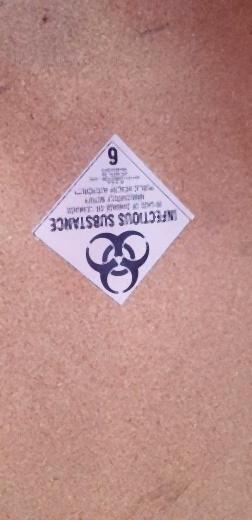infectious-substance: (32, 135, 195, 306)
